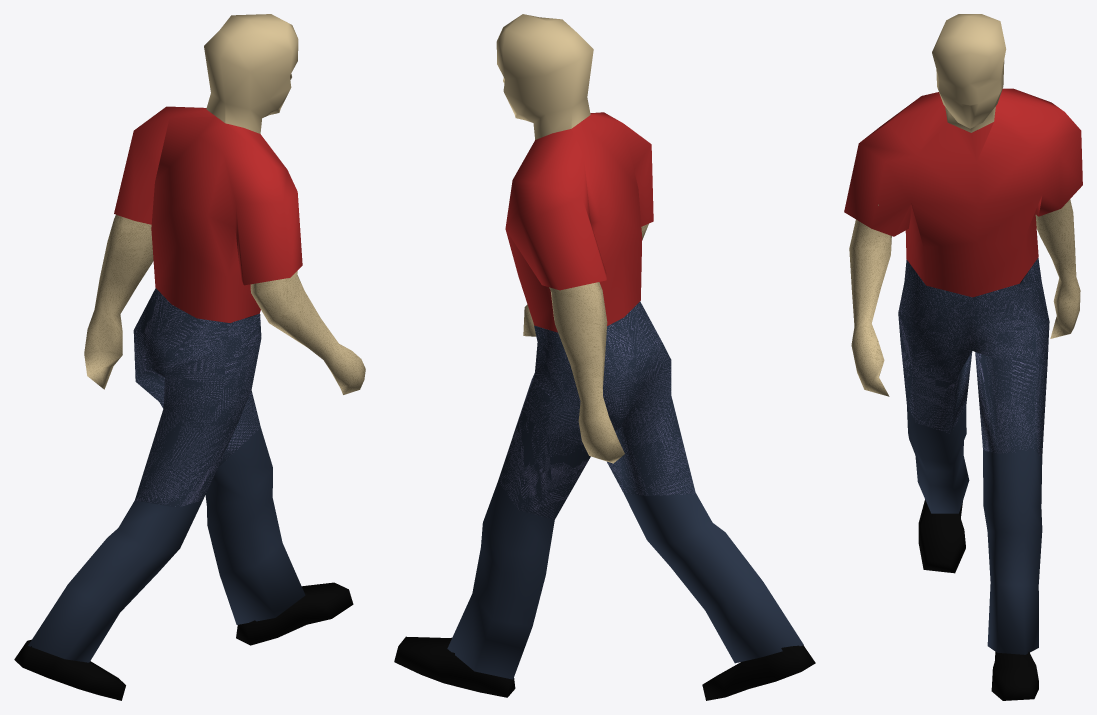
File: min_actor.dae
The picture shows the model from 3 angles, left to right: view 1: azimuth 30°, elevation 25°; view 2: azimuth 150°, elevation 25°; view 3: azimuth 270°, elevation 25°; orthographic projection. The views are drawn at different scales.
Visible parts, largest first — view 1: shirt-3, pants-3 (×2), shorts-3, _3D_Man_Walking (×2), mhead-3, shoes-3 (×2); view 2: pants-3 (×2), shirt-3, shorts-3, mhead-3, _3D_Man_Walking, shoes-3 (×2); view 3: shirt-3, shorts-3, pants-3 (×2), _3D_Man_Walking (×2), mhead-3, shoes-3 (×2).
Boxes of the visible parts, x1=… form: shirt-3: x1=114, y1=106, x2=302, y2=322; pants-3 (×2): x1=28, y1=428, x2=305, y2=662; shorts-3: x1=133, y1=288, x2=261, y2=507; _3D_Man_Walking (×2): x1=84, y1=214, x2=365, y2=394; mhead-3: x1=204, y1=14, x2=298, y2=133; shoes-3 (×2): x1=14, y1=582, x2=353, y2=700; pants-3 (×2): x1=447, y1=481, x2=803, y2=679; shirt-3: x1=505, y1=112, x2=653, y2=332; shorts-3: x1=498, y1=301, x2=695, y2=519; mhead-3: x1=496, y1=14, x2=593, y2=139; _3D_Man_Walking: x1=549, y1=282, x2=624, y2=463; shoes-3 (×2): x1=394, y1=636, x2=815, y2=700; shirt-3: x1=844, y1=88, x2=1082, y2=297; shorts-3: x1=898, y1=258, x2=1049, y2=456; pants-3 (×2): x1=907, y1=405, x2=1042, y2=654; _3D_Man_Walking (×2): x1=849, y1=199, x2=1080, y2=396; mhead-3: x1=932, y1=14, x2=1006, y2=132; shoes-3 (×2): x1=918, y1=499, x2=1038, y2=700.
Bounding box in the file's own units: 41.97 × 23.84 × 70.46.
